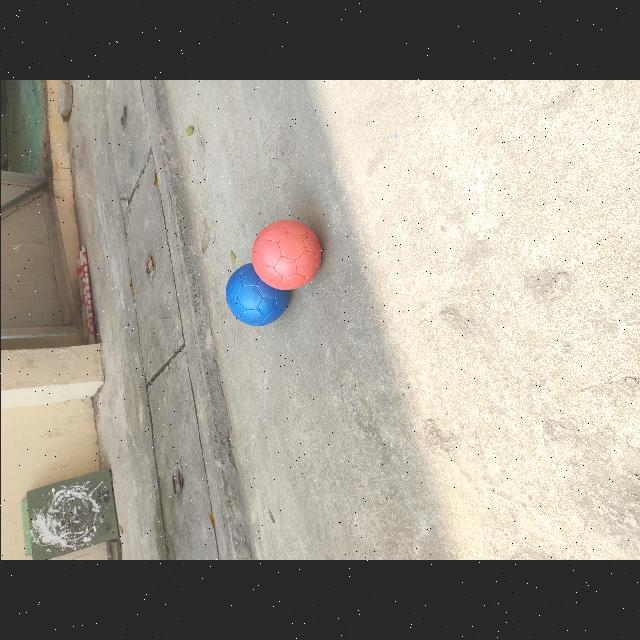B: (225, 264, 288, 326)
R: (251, 220, 320, 290)
